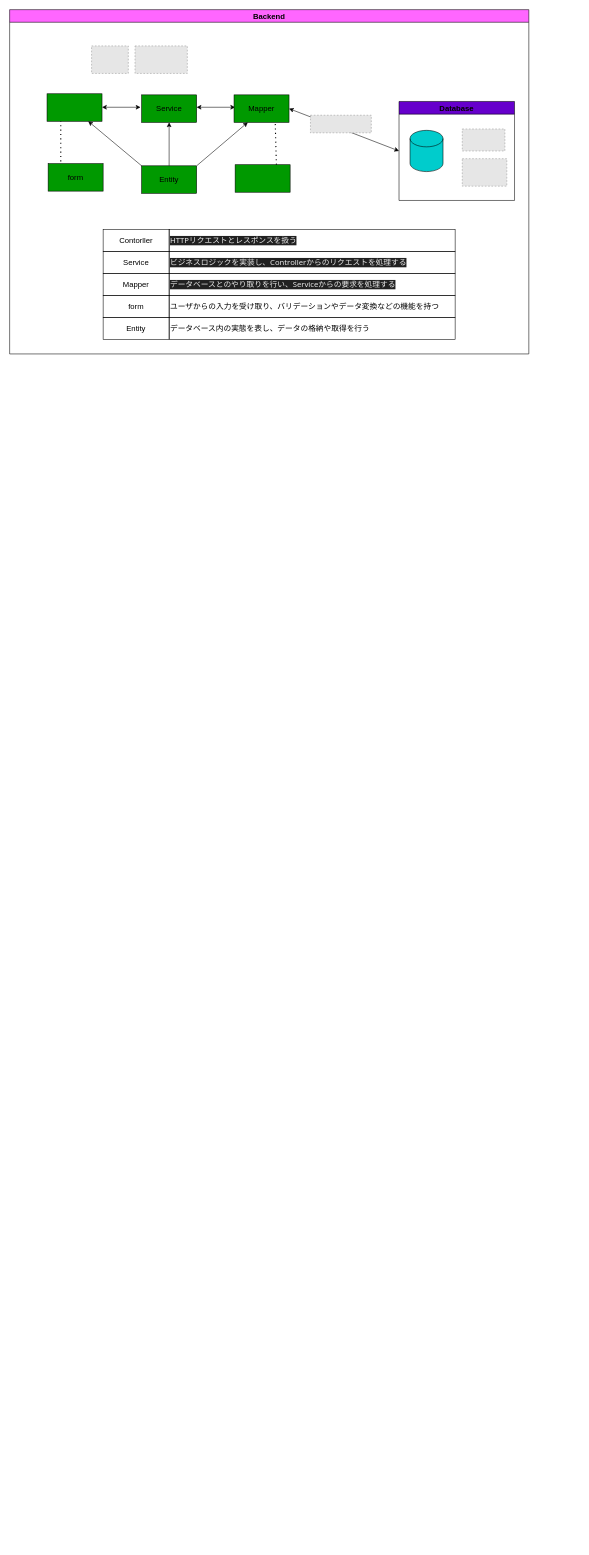
The diagram is 589 pixels wide and 1555 high, and some of its shapes have lost their labels. Grey dashed boxes stand in for pictures. The centre of each missing label's shape, as x and y in pixels:
"Controller" belongs at [74,107].
"Mapper.xml" belongs at [262,178].
